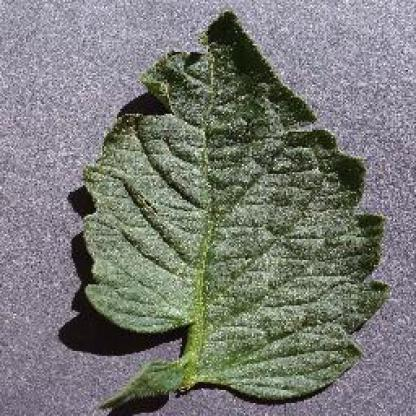bad leaf: (48, 7, 389, 398)
